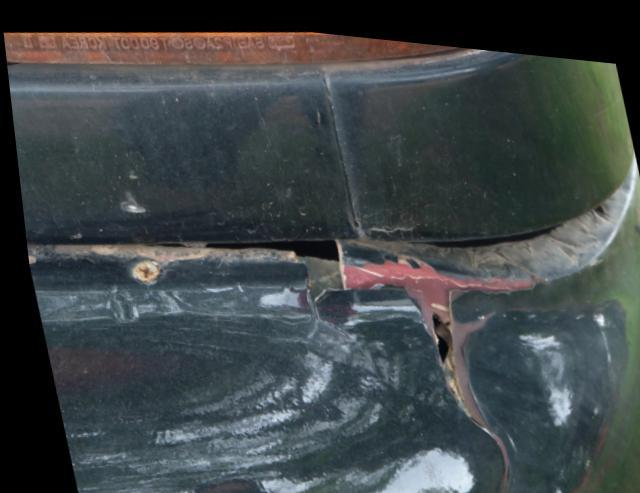crack: (144, 230, 373, 375), (398, 276, 504, 493)
